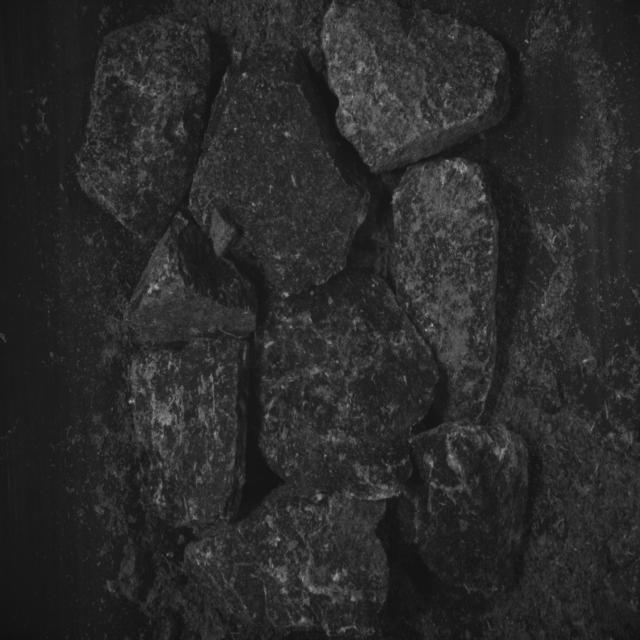Stones: (191, 48, 370, 295), (257, 272, 439, 501), (324, 1, 510, 173), (186, 488, 390, 637), (79, 18, 211, 241), (394, 159, 499, 422), (131, 336, 250, 528), (399, 423, 529, 597), (126, 213, 257, 346), (210, 208, 239, 257)
